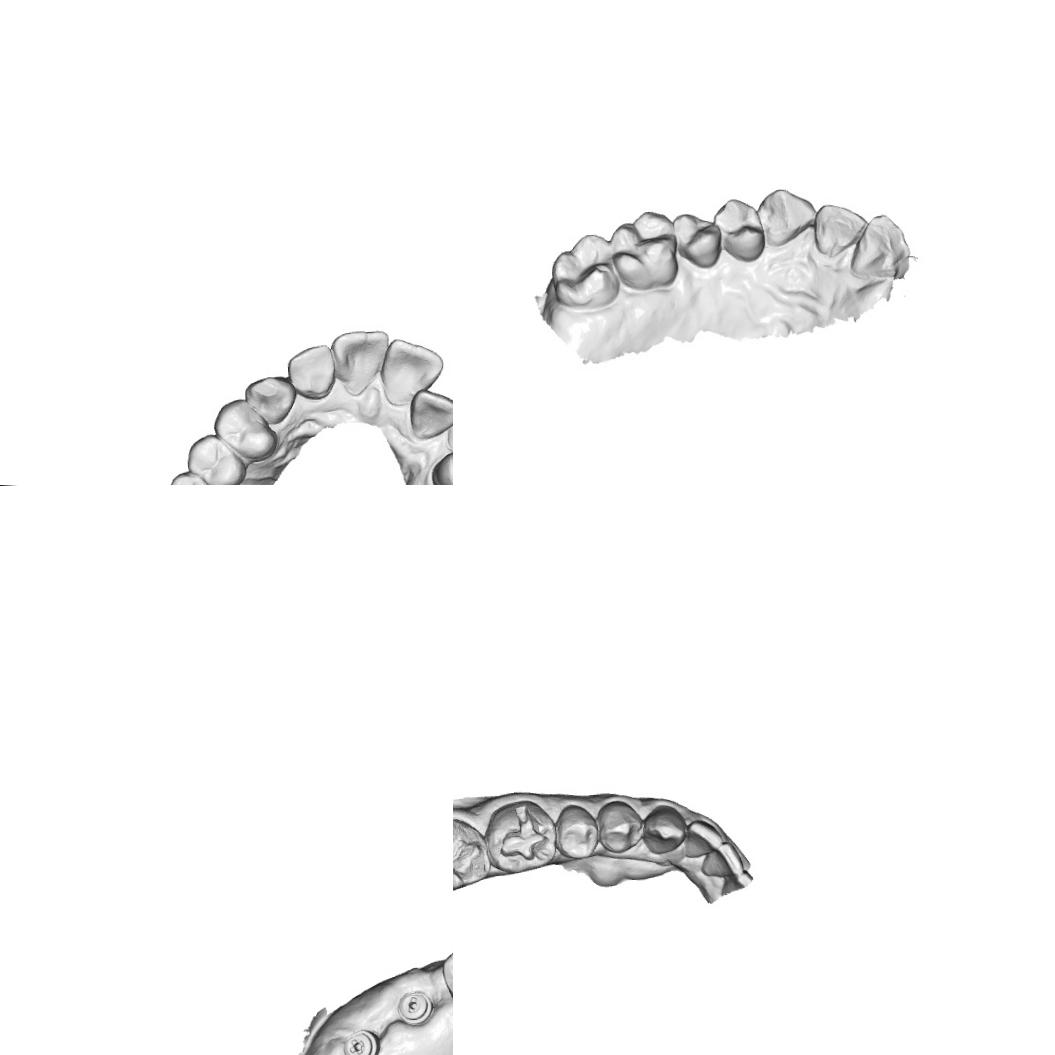canine: (755, 185, 820, 250), (242, 373, 298, 426), (638, 800, 688, 854), (441, 399, 453, 453)
implant_minus: (395, 988, 434, 1028)
implant_plus: (339, 1025, 380, 1055)
incisor: (378, 335, 446, 407), (844, 210, 911, 282), (329, 328, 391, 397), (811, 201, 871, 259), (284, 342, 336, 402), (407, 385, 453, 442), (698, 840, 746, 879), (682, 816, 724, 858)
inlay: (494, 802, 552, 865), (453, 815, 484, 886)
molar: (608, 208, 680, 291), (548, 230, 622, 308), (159, 467, 226, 485)
premolar: (210, 395, 279, 464), (710, 196, 766, 264), (183, 431, 248, 485), (670, 210, 724, 270), (596, 796, 646, 855), (552, 800, 599, 862), (428, 442, 453, 485), (438, 942, 453, 1008)
